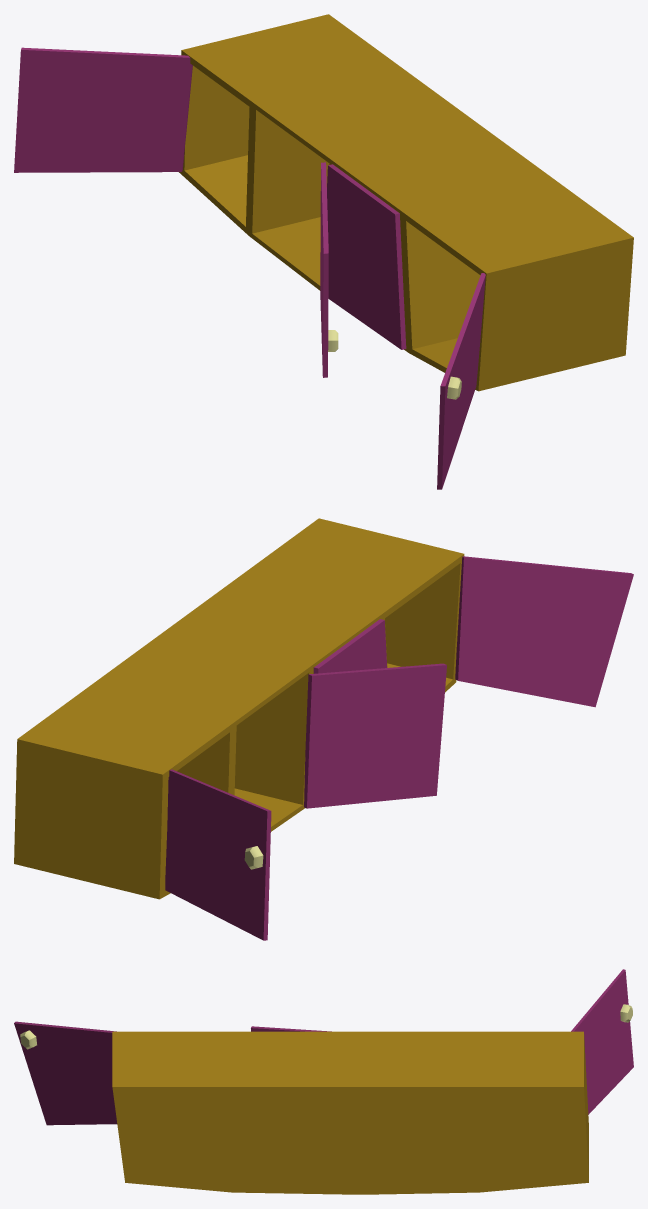
File: kitchencupboard_modern.fbx
3 renders of one model, top to bottom at view 1: azimuth 30°, elevation 25°; view 2: azimuth 150°, elevation 25°; view 3: azimuth 270°, elevation 25°, orthographic. The views are drawn at different scales.
Visible parts, largest first — view 1: polySurface14, polySurface18, polySurface16, polySurface15, polySurface17; view 2: polySurface14, polySurface15, polySurface17, polySurface18, polySurface16; view 3: polySurface14, polySurface15, polySurface18.
Part boxes in pixels (bbox=[...]): polySurface14: bbox=[179, 14, 633, 391]; polySurface18: bbox=[14, 47, 192, 172]; polySurface16: bbox=[327, 164, 406, 349]; polySurface15: bbox=[437, 273, 485, 489]; polySurface17: bbox=[320, 162, 328, 377]; polySurface14: bbox=[14, 518, 464, 899]; polySurface15: bbox=[455, 556, 633, 707]; polySurface17: bbox=[304, 663, 446, 808]; polySurface18: bbox=[165, 769, 271, 940]; polySurface16: bbox=[313, 619, 387, 673]; polySurface14: bbox=[112, 1031, 588, 1194]; polySurface15: bbox=[14, 1021, 117, 1125]; polySurface18: bbox=[571, 969, 633, 1114].
Bounding box in the file's own units: 134 × 80.75 × 328.
